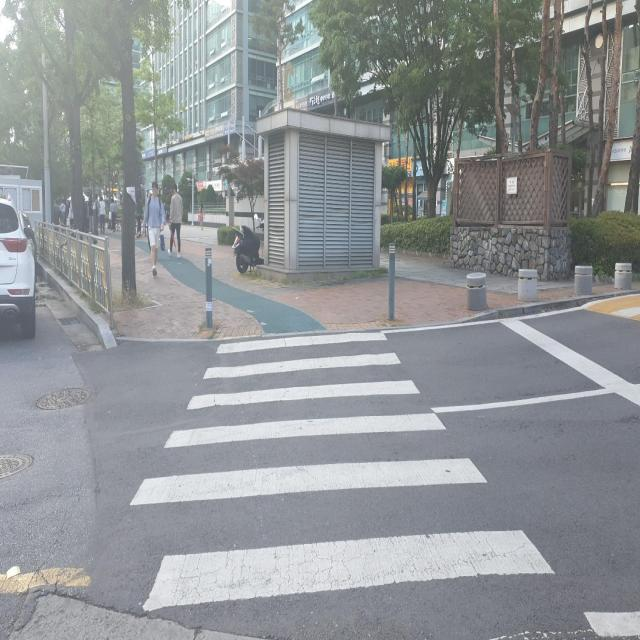횡단보도: (130, 332, 557, 614)
